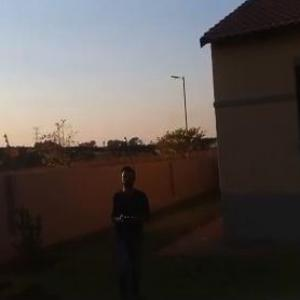follow: (104, 159, 157, 299)
